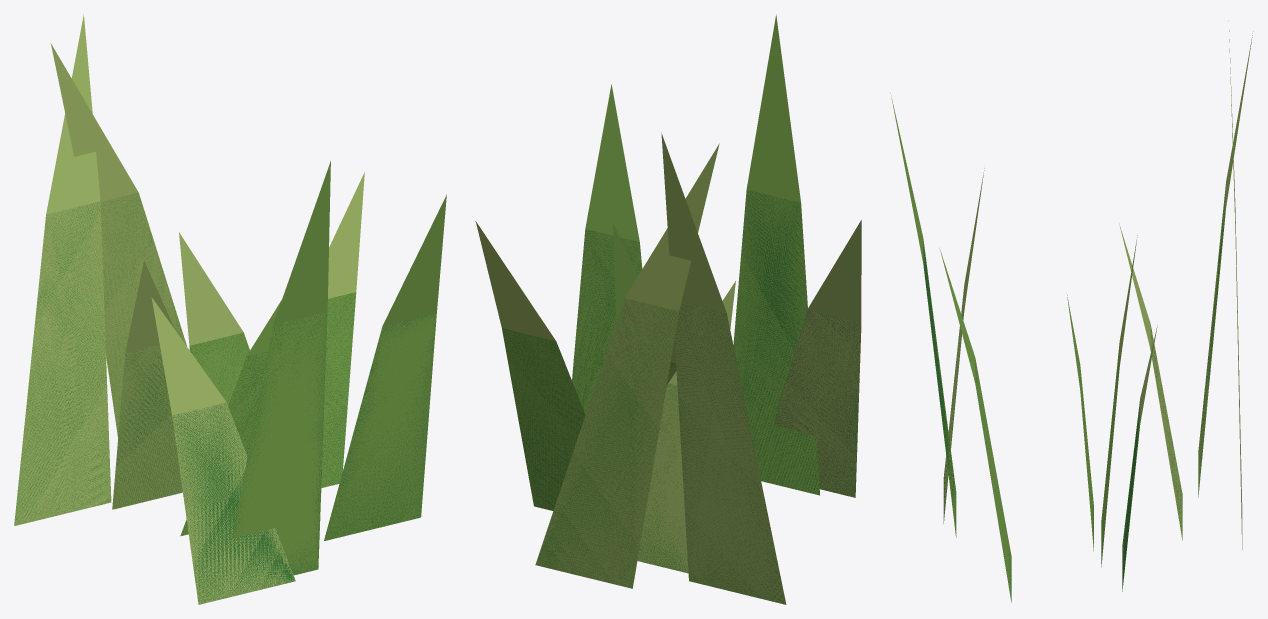
Rendered from tuft.glb.
3 views of the same model, side by side, from view 1: azimuth 30°, elevation 25°; view 2: azimuth 150°, elevation 25°; view 3: azimuth 270°, elevation 25° (orthographic).
Visible parts, largest first — view 1: tuft; view 2: tuft; view 3: tuft.
Part boxes in pixels (bbox=[...]): tuft: bbox=[14, 14, 446, 604]; tuft: bbox=[475, 14, 861, 604]; tuft: bbox=[890, 20, 1253, 602].
Bounding box in the file's own units: 0.1529 × 0.207 × 0.1449.
